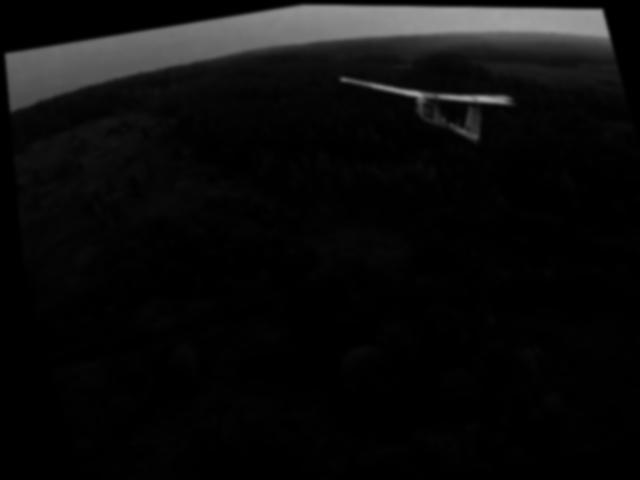hedef: (328, 34, 538, 178)
